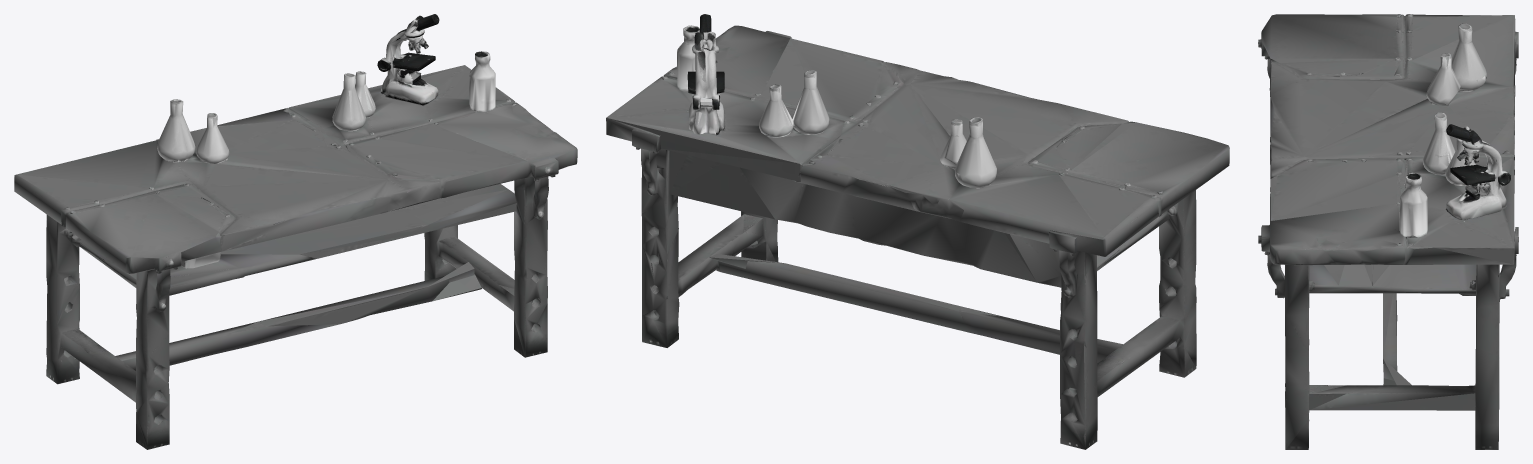
Rendered from lab_table.glb.
3 renders of one model, left to right at view 1: azimuth 30°, elevation 25°; view 2: azimuth 150°, elevation 25°; view 3: azimuth 270°, elevation 25°, orthographic. The views are drawn at different scales.
Parts seen in each view (by area): view 1: lab_table; view 2: lab_table; view 3: lab_table.
Part boxes in pixels (x1,y1,x2,y2): lab_table: [14, 14, 577, 449]; lab_table: [606, 14, 1229, 449]; lab_table: [1258, 14, 1518, 449].
Bounding box in the file's own units: 1.8 × 1.1 × 0.8465.
1 material, 1 textured.
